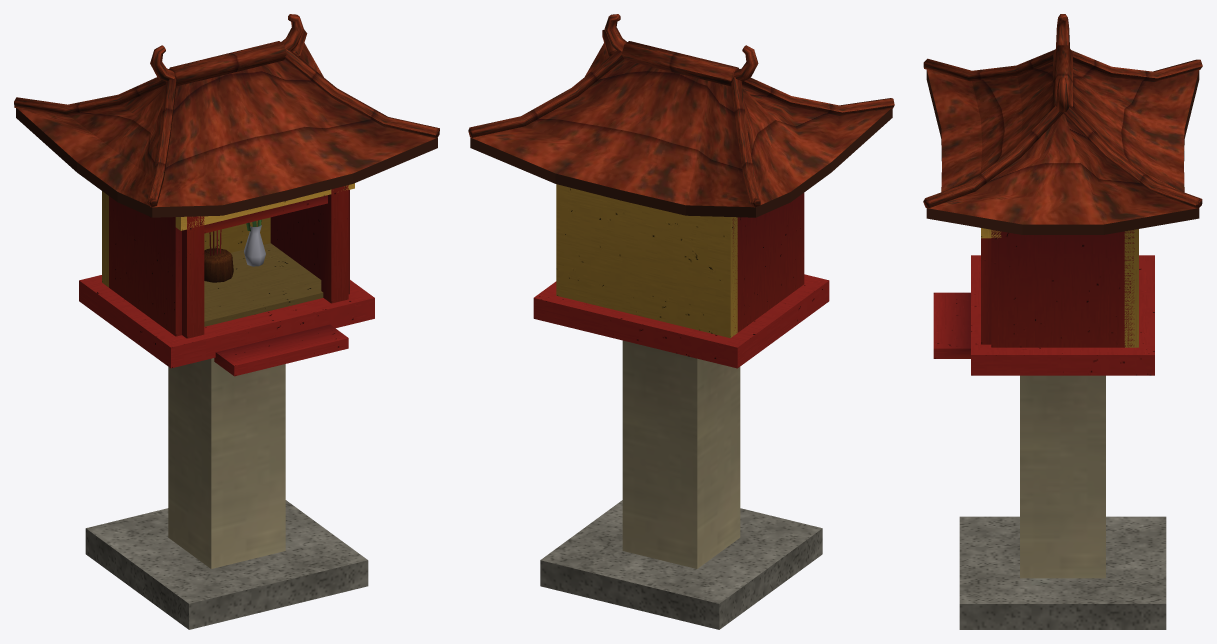
The model's file is shrine.glb.
3 renders of one model, left to right at view 1: azimuth 30°, elevation 25°; view 2: azimuth 150°, elevation 25°; view 3: azimuth 270°, elevation 25°, orthographic.
Visible parts, largest first — view 1: shrine_mesh; view 2: shrine_mesh; view 3: shrine_mesh.
Part boxes in pixels (x1=…): shrine_mesh: x1=14, y1=14, x2=439, y2=629; shrine_mesh: x1=468, y1=14, x2=894, y2=629; shrine_mesh: x1=923, y1=14, x2=1202, y2=629.
Bounding box in the file's own units: 1.18 × 2.07 × 0.9738.
Materials: 8 (6 with a texture image).
